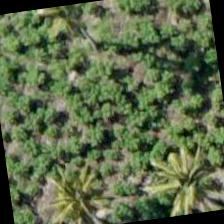Kelapa_Sawit: (15, 141, 117, 223), (23, 0, 120, 58), (148, 156, 223, 220)
